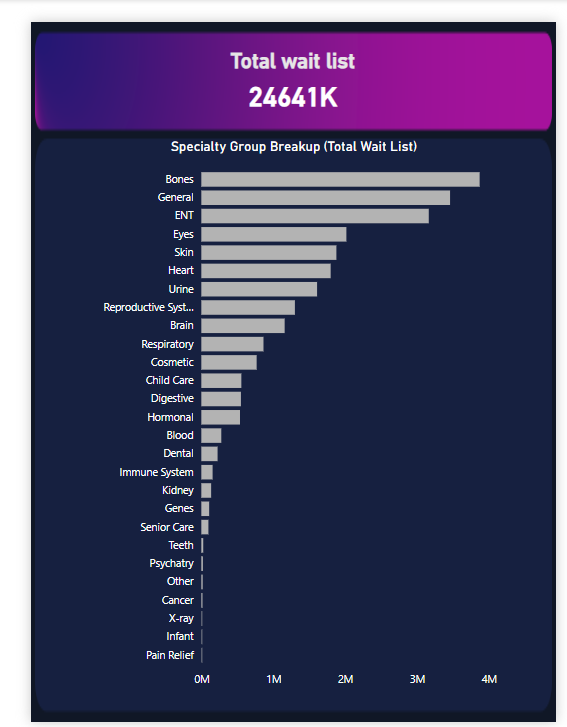

Layout of this report page (visuals, bound fields, positions):
{"tool":"powerbi","page":{"name":"Drill Down","canvas":[600,800],"ordinal":2},"visuals":[{"type":"barChart","title":" Specialty Group Breakup (Total Wait List)","fields":{"Y":["Sum(All_Data.Total)"],"Category":["Mapping_Specialty.Specialty Group"]},"box":[63,132.7,474.5,636.7],"z":0},{"type":"card","title":"Total wait list","fields":{"Values":["Sum(All_Data.Total)"]},"box":[190.3,29.5,218.5,80.4],"z":1000}]}

Visuals, with their boxes on the page's 600x800 design canvas (x1, y1, x2, y2). These are canvas units, not pixel positions in the 567x727 screenshot, which may show the page scaled, cropped or inside an application window:
" Specialty Group Breakup (Total Wait List)" barChart: {"left": 63, "top": 133, "right": 538, "bottom": 769}
"Total wait list" card: {"left": 190, "top": 30, "right": 409, "bottom": 110}
